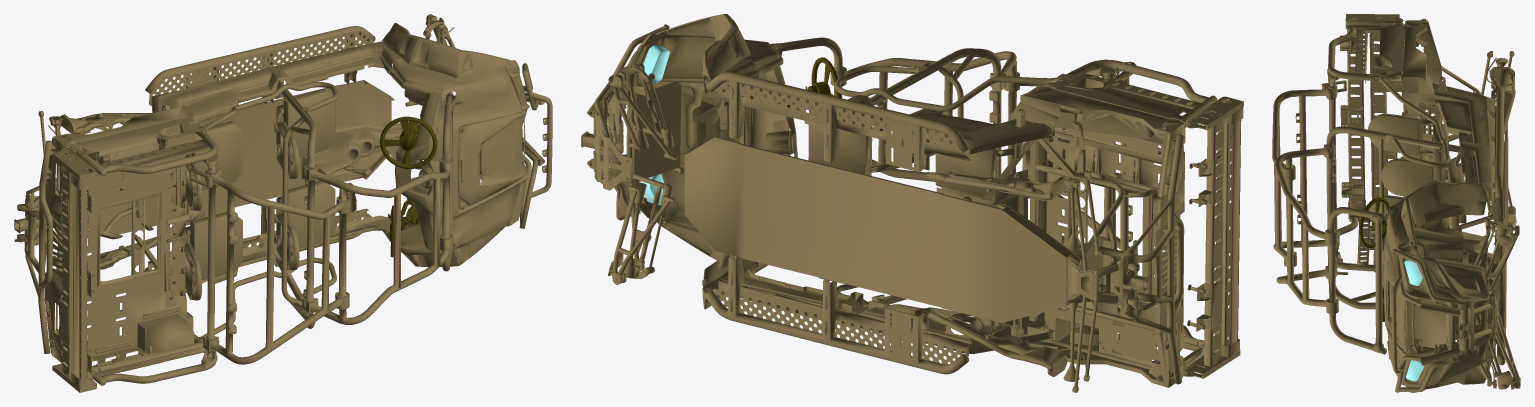
The model's file is mrzr_no_wheel_rot.obj.
3 views of the same model, side by side, from view 1: azimuth 30°, elevation 25°; view 2: azimuth 150°, elevation 25°; view 3: azimuth 270°, elevation 25° (orthographic). The views are drawn at different scales.
Visible parts, largest first — view 1: mrzr4_cadx; view 2: mrzr4_cadx; view 3: mrzr4_cadx.
Part boxes in pixels (left/top/right/bottom): mrzr4_cadx: left=14, top=14, right=552, bottom=392; mrzr4_cadx: left=581, top=14, right=1243, bottom=392; mrzr4_cadx: left=1272, top=14, right=1520, bottom=392.
Bounding box in the file's own units: 3.61 × 1.55 × 1.69.
